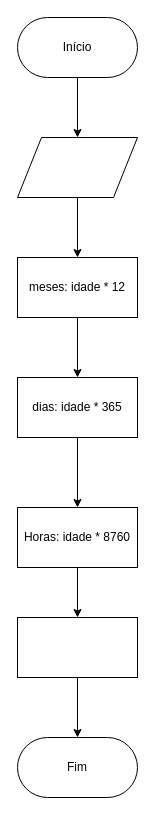
This 155x815 diagram has some shape labels left out. Each missing label, with the box of its shape:
minutos: idade * 525600: (16, 616, 138, 678)
Qual a sua idade?: (16, 136, 138, 198)
